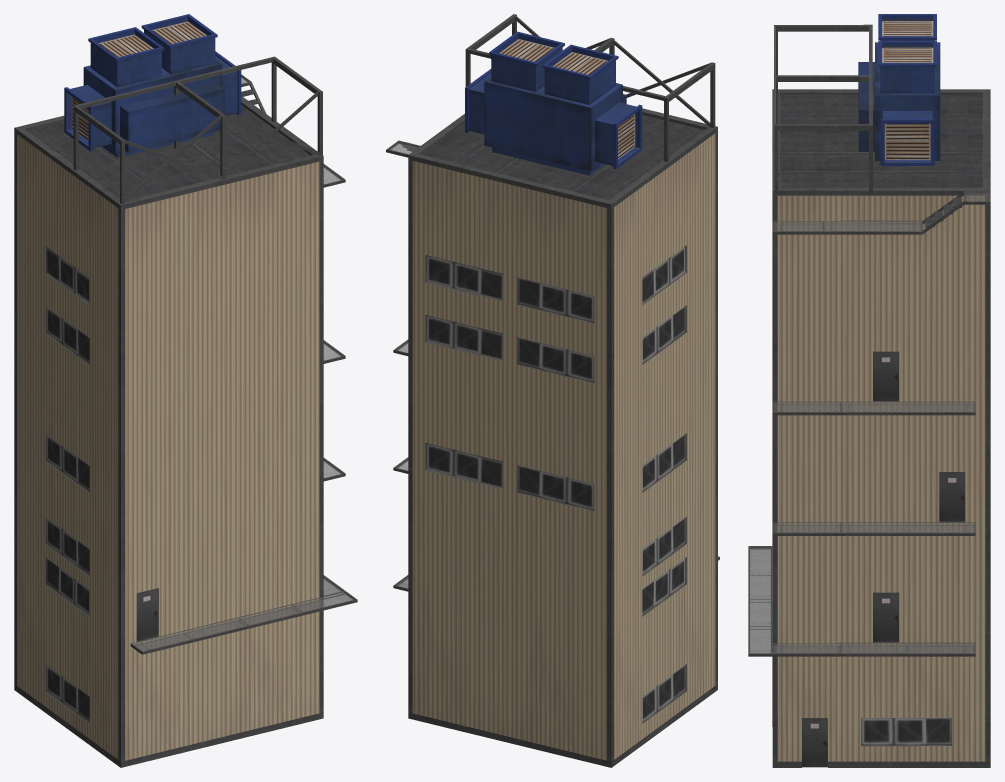
Rendered from plant-building33.glb.
3 renders of one model, left to right at view 1: azimuth 30°, elevation 25°; view 2: azimuth 150°, elevation 25°; view 3: azimuth 270°, elevation 25°, orthographic. The views are drawn at different scales.
Parts seen in each view (by area): view 1: Object8935832; view 2: Object8935832; view 3: Object8935832.
Boxes of the visible parts, box(x1,y1,x2,y2) form: Object8935832: box(14, 14, 357, 767); Object8935832: box(386, 14, 719, 767); Object8935832: box(748, 14, 990, 767).
Size of the model in its own units: 10.28 by 28.76 by 9.34.
1 material, 1 textured.
